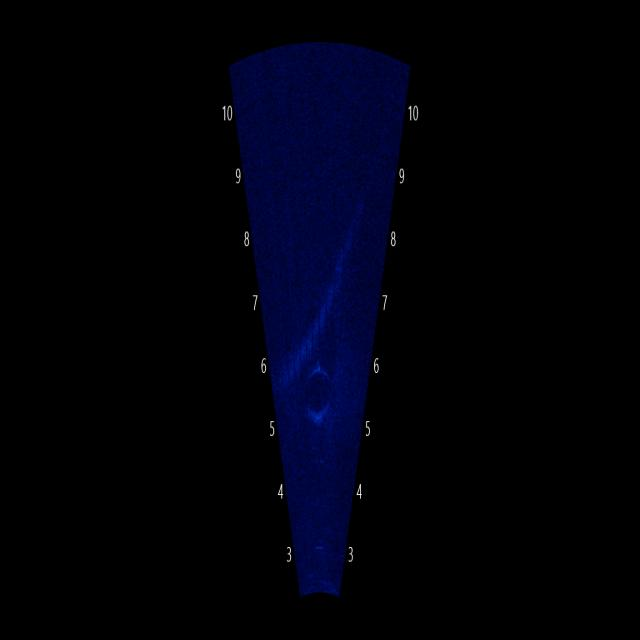circle: (299, 349, 338, 434)
